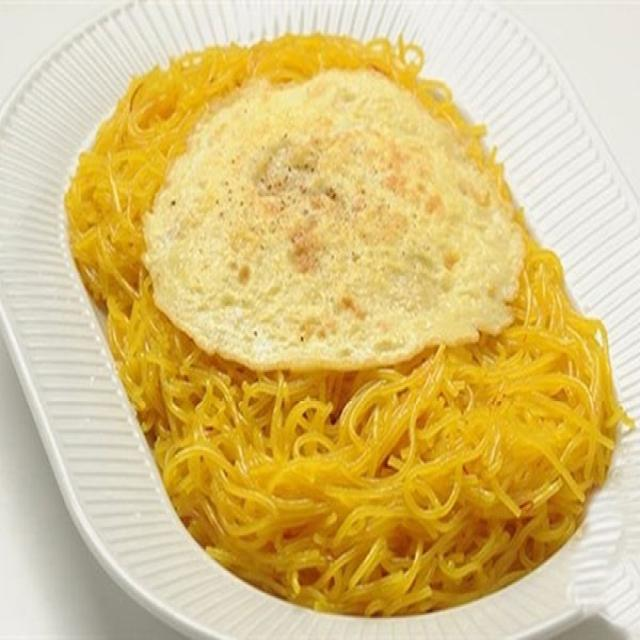Balaleet: (72, 54, 606, 602)
